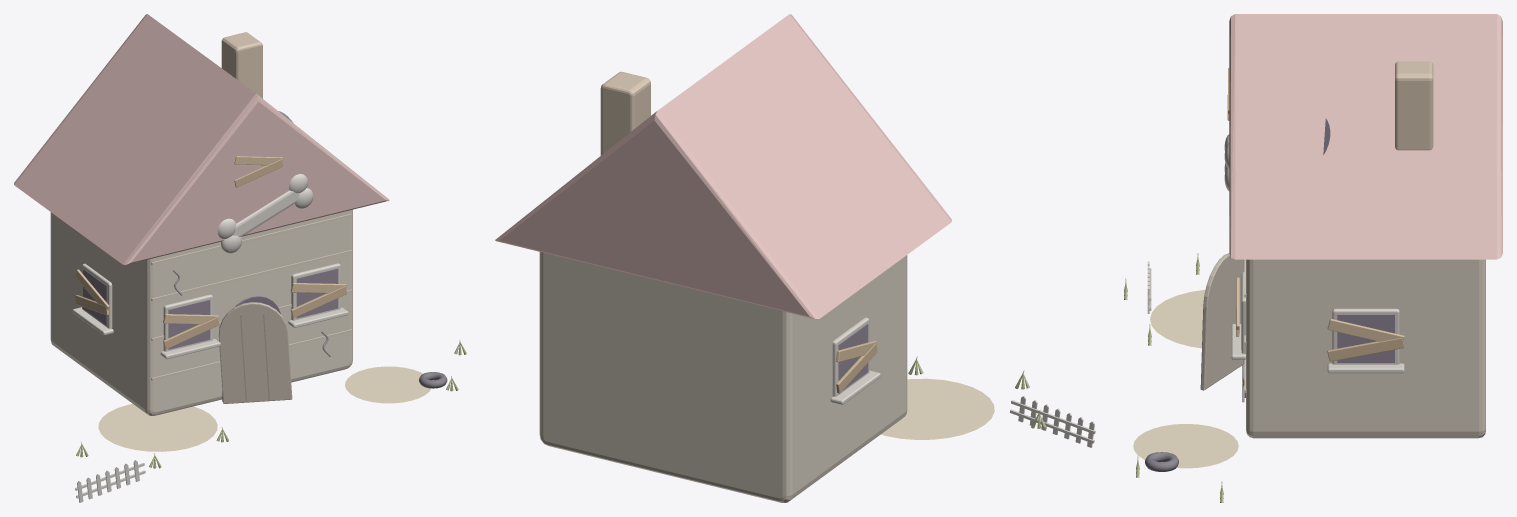
File: building_pets_L01.glb
3 renders of one model, left to right at view 1: azimuth 30°, elevation 25°; view 2: azimuth 150°, elevation 25°; view 3: azimuth 270°, elevation 25°, orthographic. The views are drawn at different scales.
Parts seen in each view (by area): view 1: Body, pets_L1; view 2: Body, pets_L1; view 3: Body, pets_L1.
Part boxes in pixels (x1,y1,x2,y2): Body: (14, 14, 389, 415); pets_L1: (75, 340, 466, 502); Body: (495, 14, 951, 502); pets_L1: (881, 356, 1095, 447); Body: (1200, 14, 1502, 438); pets_L1: (1124, 253, 1238, 502).
Bounding box in the file's own units: 24.39 × 18.33 × 15.78.
